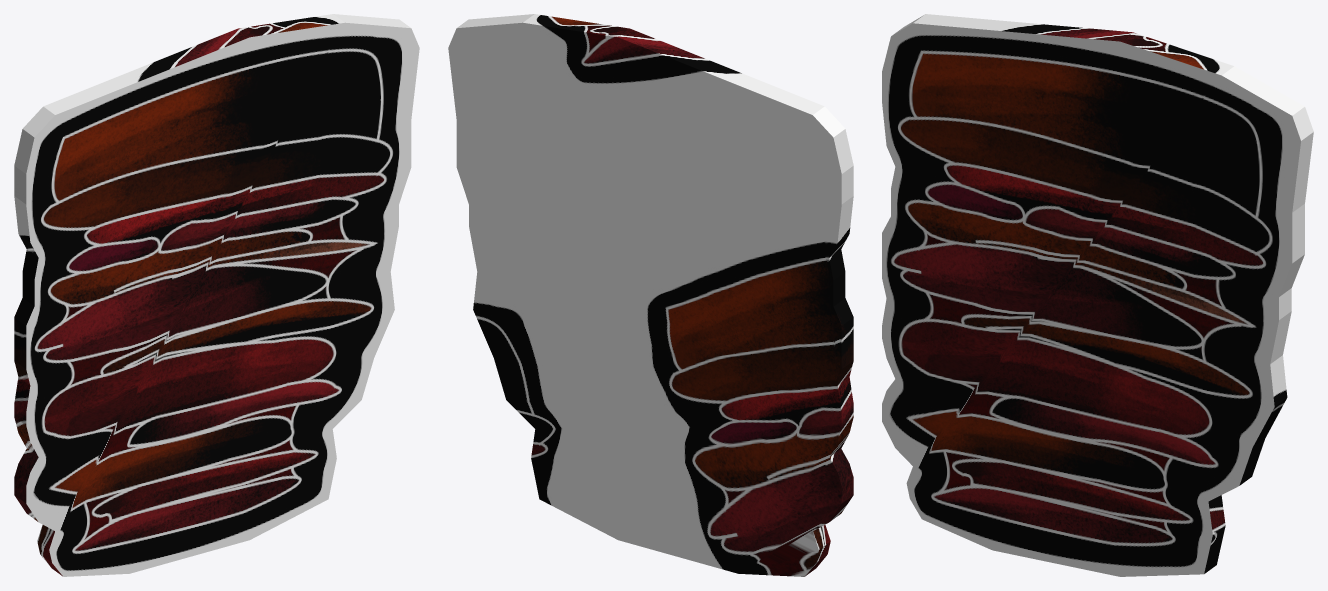
Rendered from ruinable_large.obj.
The picture shows the model from 3 angles, left to right: view 1: azimuth 30°, elevation 25°; view 2: azimuth 150°, elevation 25°; view 3: azimuth 330°, elevation 25°; orthographic projection. The views are drawn at different scales.
Parts seen in each view (by area): view 1: MeshBody1; view 2: MeshBody1; view 3: MeshBody1.
Boxes of the visible parts, box(x1,y1,x2,y2) form: MeshBody1: box(14, 14, 419, 576); MeshBody1: box(448, 14, 853, 576); MeshBody1: box(882, 14, 1313, 576).
Size of the model in its own units: 0.95 by 1.17 by 0.05.
